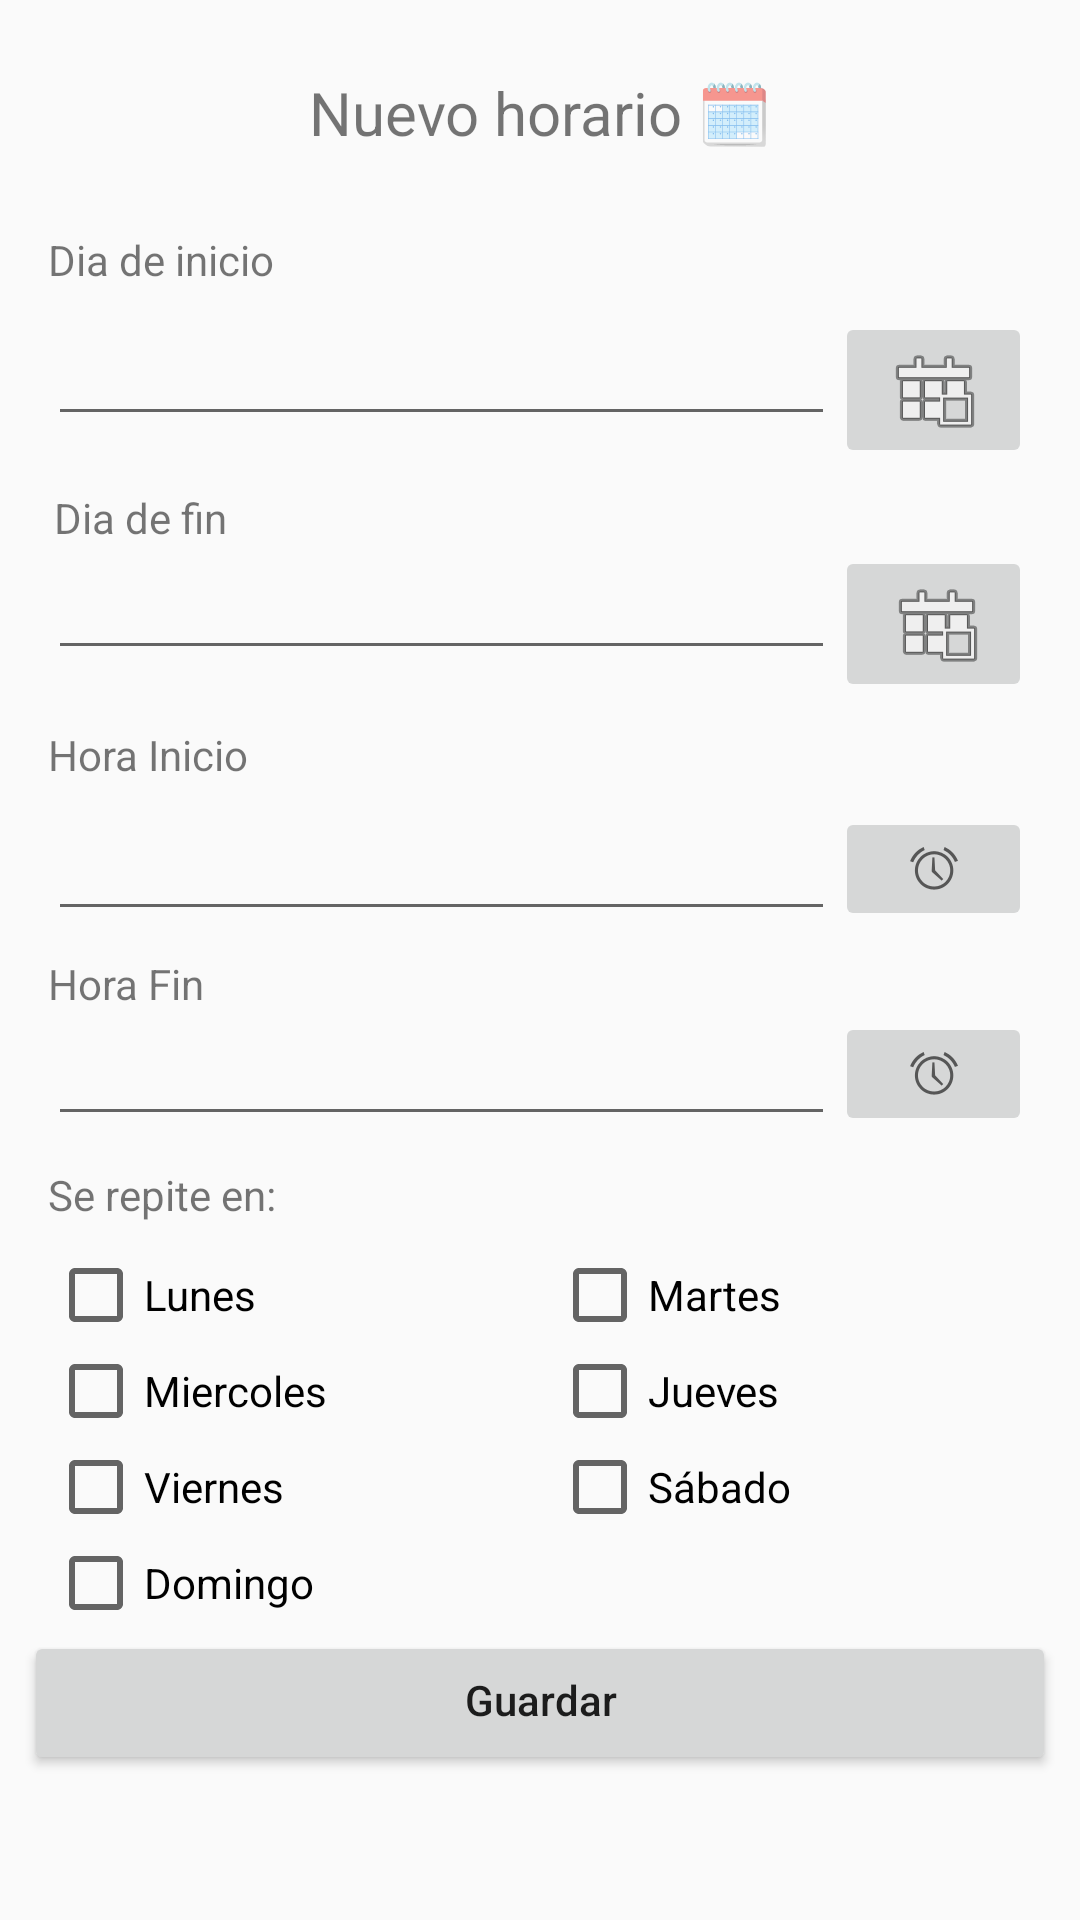

Icon click points for this 1080w x 1920h phone screenshot, format (x,y):
lock idle alarm: (933,869), (933,1074)
today: (933,390), (933,624)
